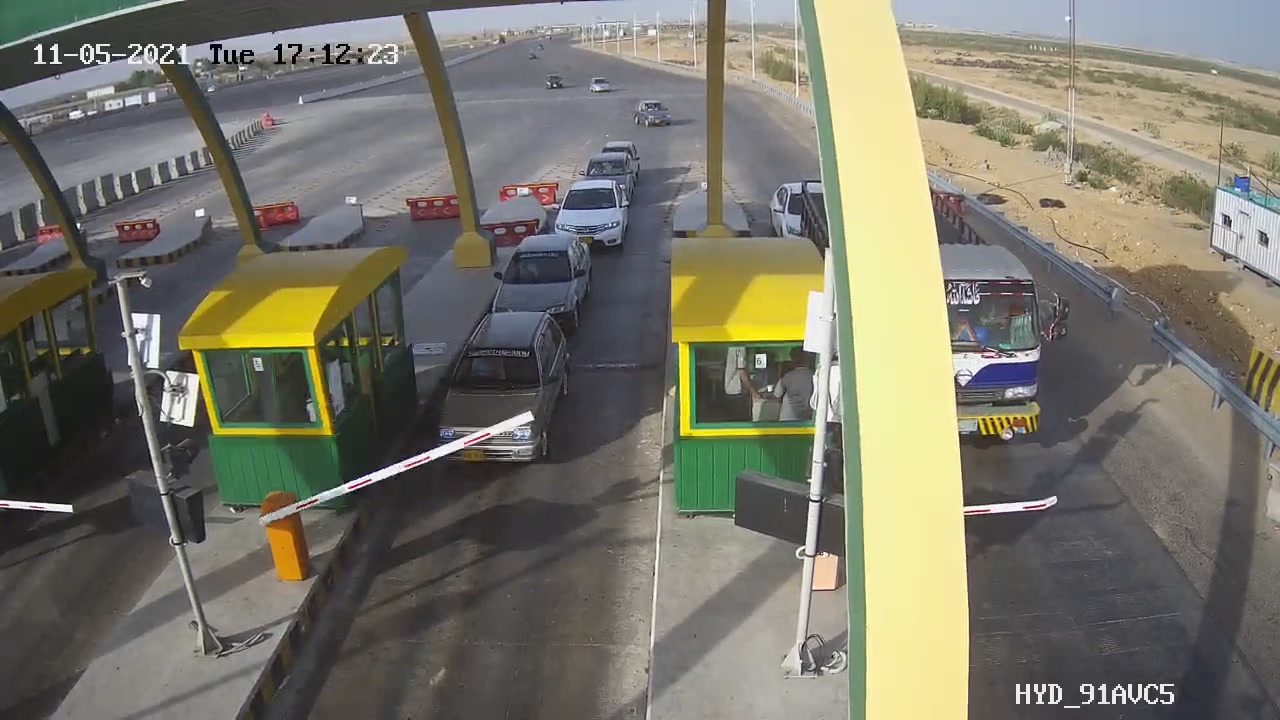F1: (420, 299, 590, 483)
